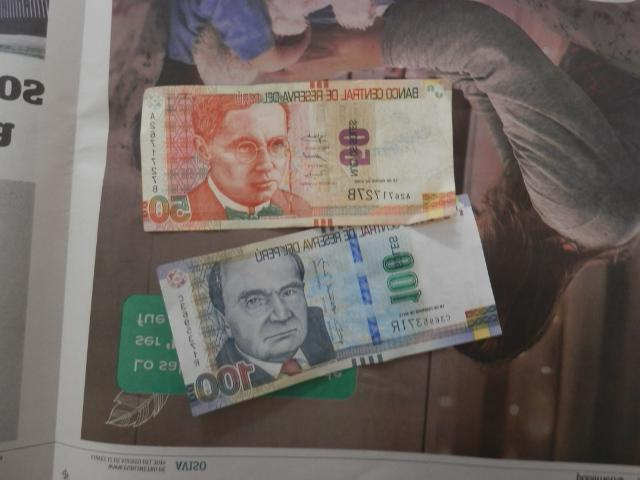B100: (159, 226, 502, 416)
B50: (143, 80, 456, 229)
